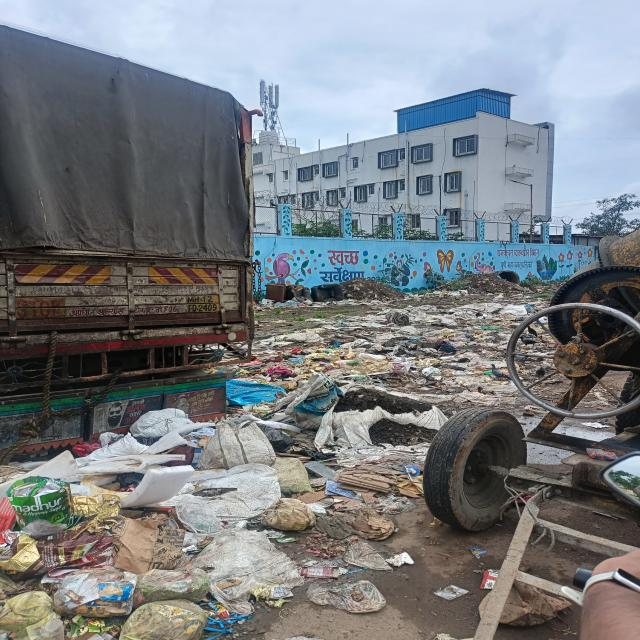garbage: (7, 415, 283, 640), (234, 302, 523, 437), (268, 281, 416, 304), (435, 274, 527, 296)
